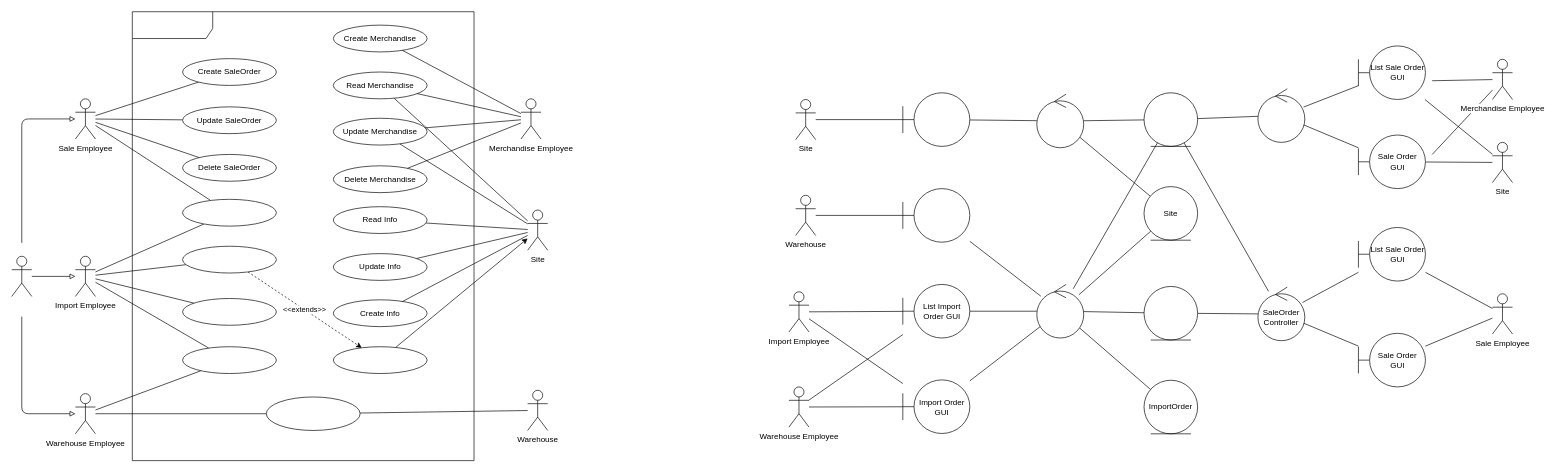
The diagram is 1556 pixels wide and 472 high, and some of its shapes have lost their labels. The shapes that lost their labels are listed below. From the top down, each one's box as (x1, y1, x2, y2) in pixels, then its label:
(902, 92, 970, 146): SiteInfoFrame
(1036, 93, 1084, 148): Site Info Controller
(1143, 92, 1198, 146): Merchandise
(1257, 88, 1305, 142): Merchandise Controller
(182, 199, 276, 226): Read SaleOrder
(902, 188, 970, 242): Warehouse SybSystem
(132, 11, 474, 461): Hệ thống đặt hàng nhập khẩu
(11, 256, 32, 296): User
(182, 246, 276, 273): Create ImportOrder
(182, 298, 276, 325): Update ImportOrder
(1036, 284, 1084, 338): ImportOrder Controller
(1143, 286, 1198, 340): SaleOrder
(182, 346, 276, 374): Read ImportOrder
(333, 346, 427, 374): Send ImportOrder
(266, 396, 360, 430): Confirm ImportOrder
